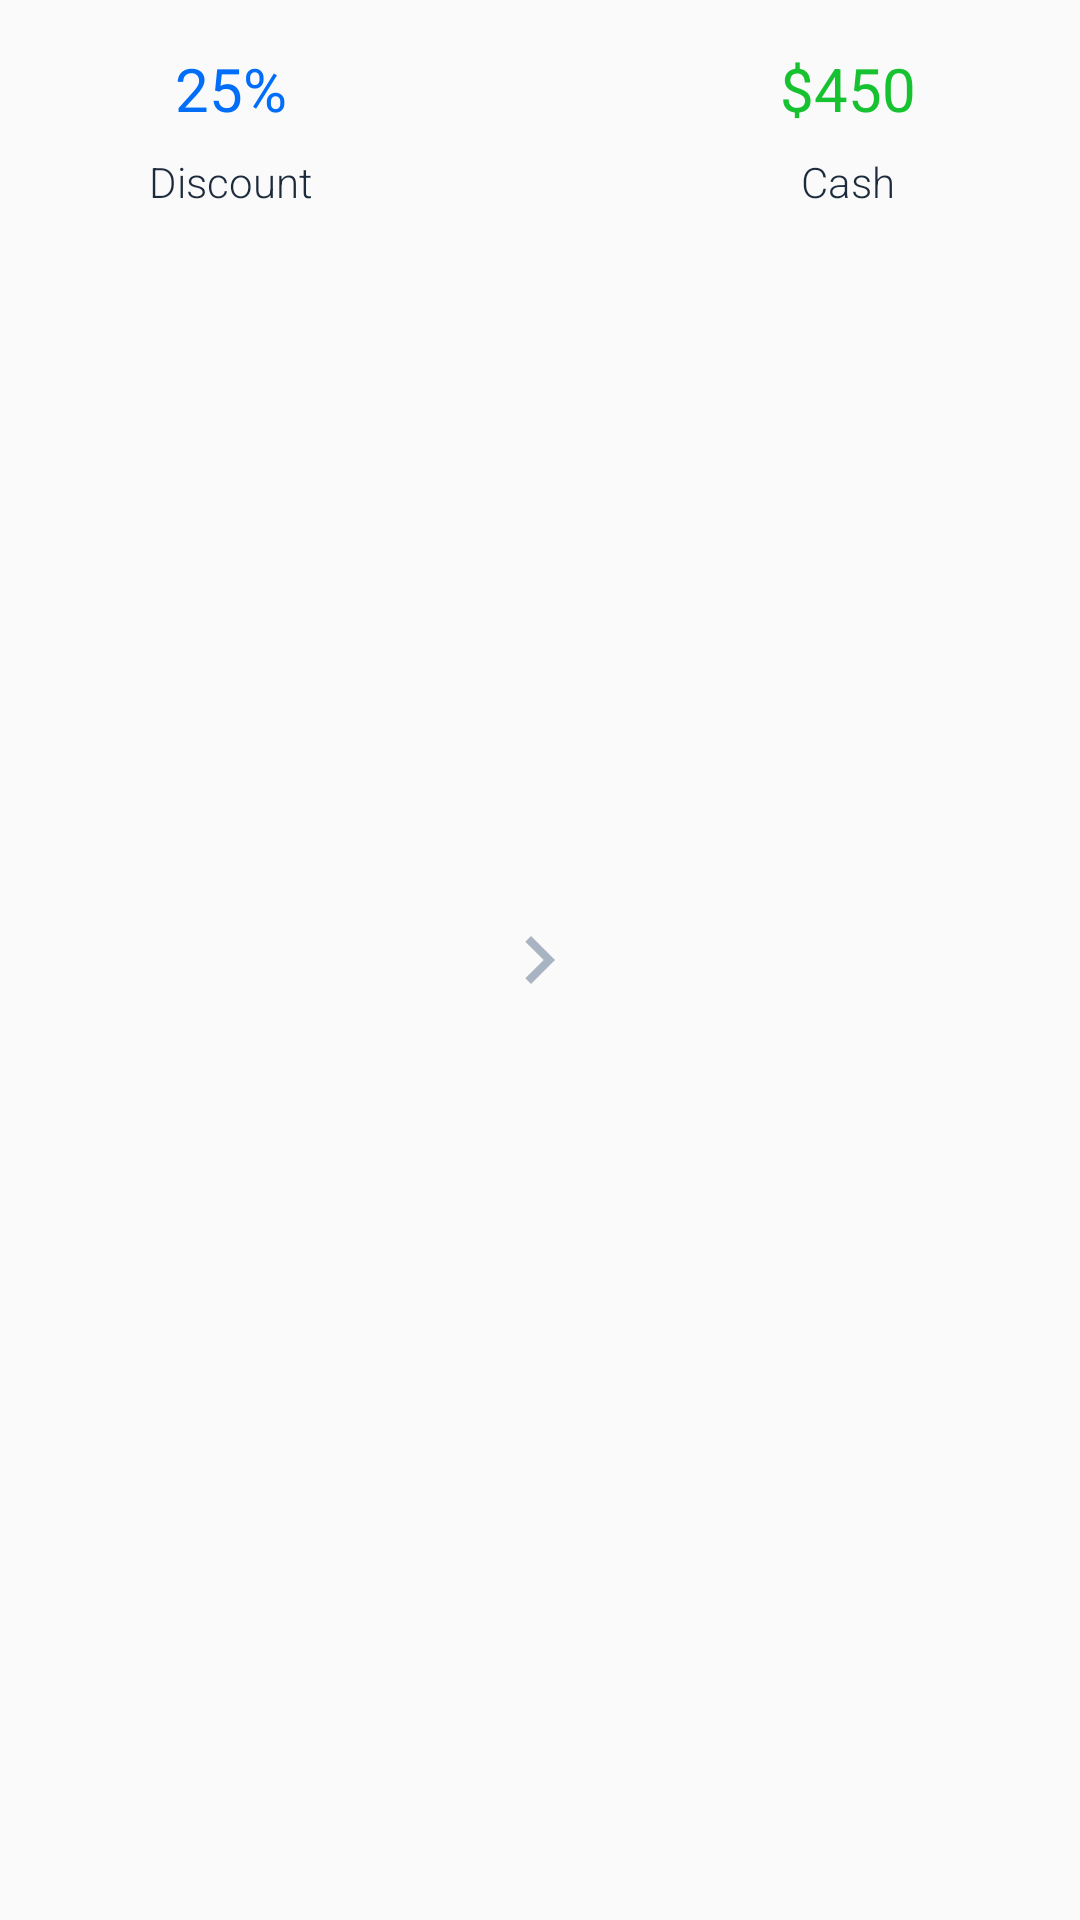

Point at icon controls on the screen. Image size 1080 × 1920, points as point (x, y).
chevron right: point (540, 960)
